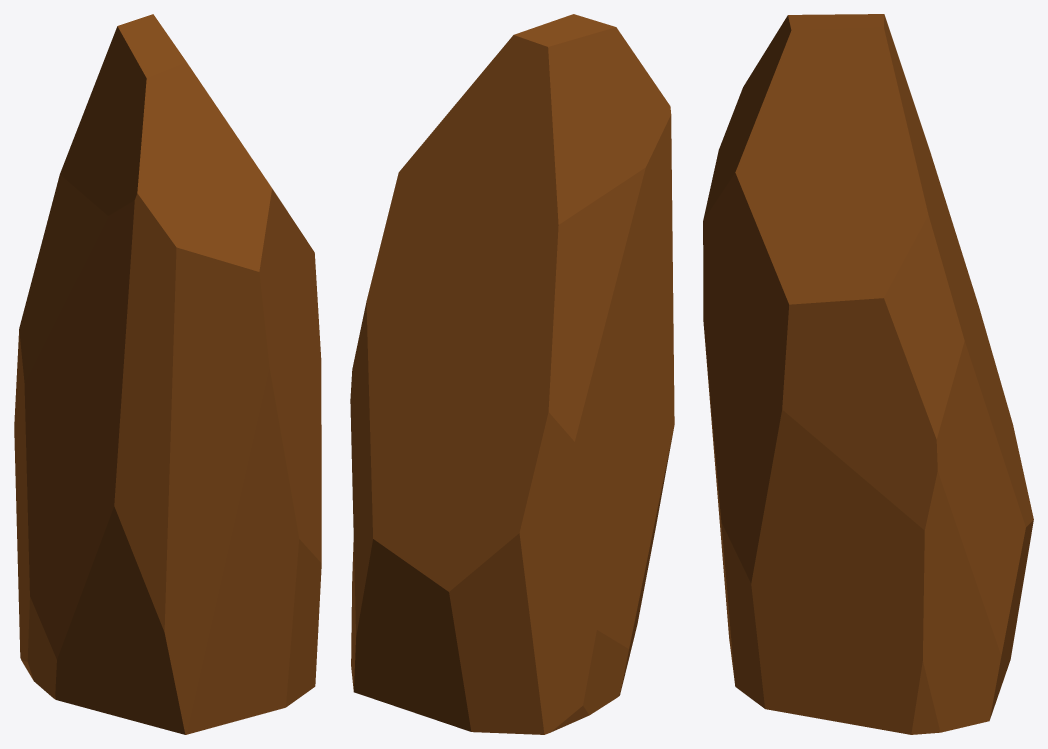
The model's file is HardRock_60.fbx.
3 views of the same model, side by side, from view 1: azimuth 30°, elevation 25°; view 2: azimuth 150°, elevation 25°; view 3: azimuth 270°, elevation 25° (orthographic). The views are drawn at different scales.
Parts seen in each view (by area): view 1: HardRock_60; view 2: HardRock_60; view 3: HardRock_60.
Boxes of the visible parts, x1,y1,x2,y2 form: HardRock_60: (14, 14, 321, 734); HardRock_60: (350, 14, 674, 734); HardRock_60: (703, 14, 1033, 734).
Size of the model in its own units: 65.61 by 164 by 76.56.
